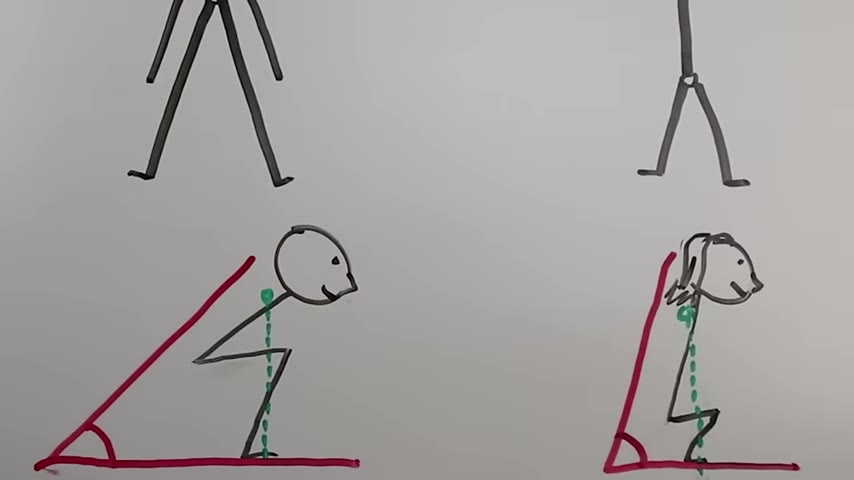barbell_plate_side: (276, 219, 362, 439), (726, 231, 764, 326)
